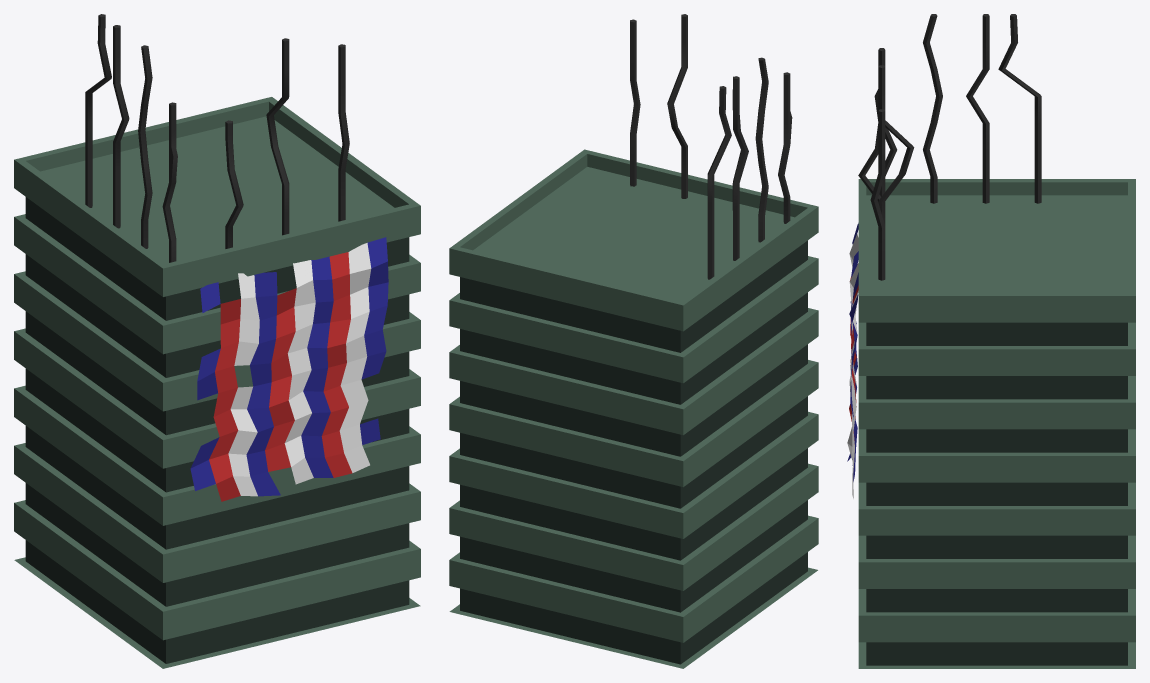
File: 09 Building_4.FBX
3 renders of one model, left to right at view 1: azimuth 30°, elevation 25°; view 2: azimuth 150°, elevation 25°; view 3: azimuth 270°, elevation 25°, orthographic. The views are drawn at different scales.
Visible parts, largest first — view 1: Building_4; view 2: Building_4; view 3: Building_4.
Part boxes in pixels (box(x1,y1,x2,y2)): Building_4: box(14, 14, 420, 668); Building_4: box(449, 14, 818, 668); Building_4: box(847, 14, 1135, 668).
Size of the model in its own units: 2099 by 4566 by 2186.
